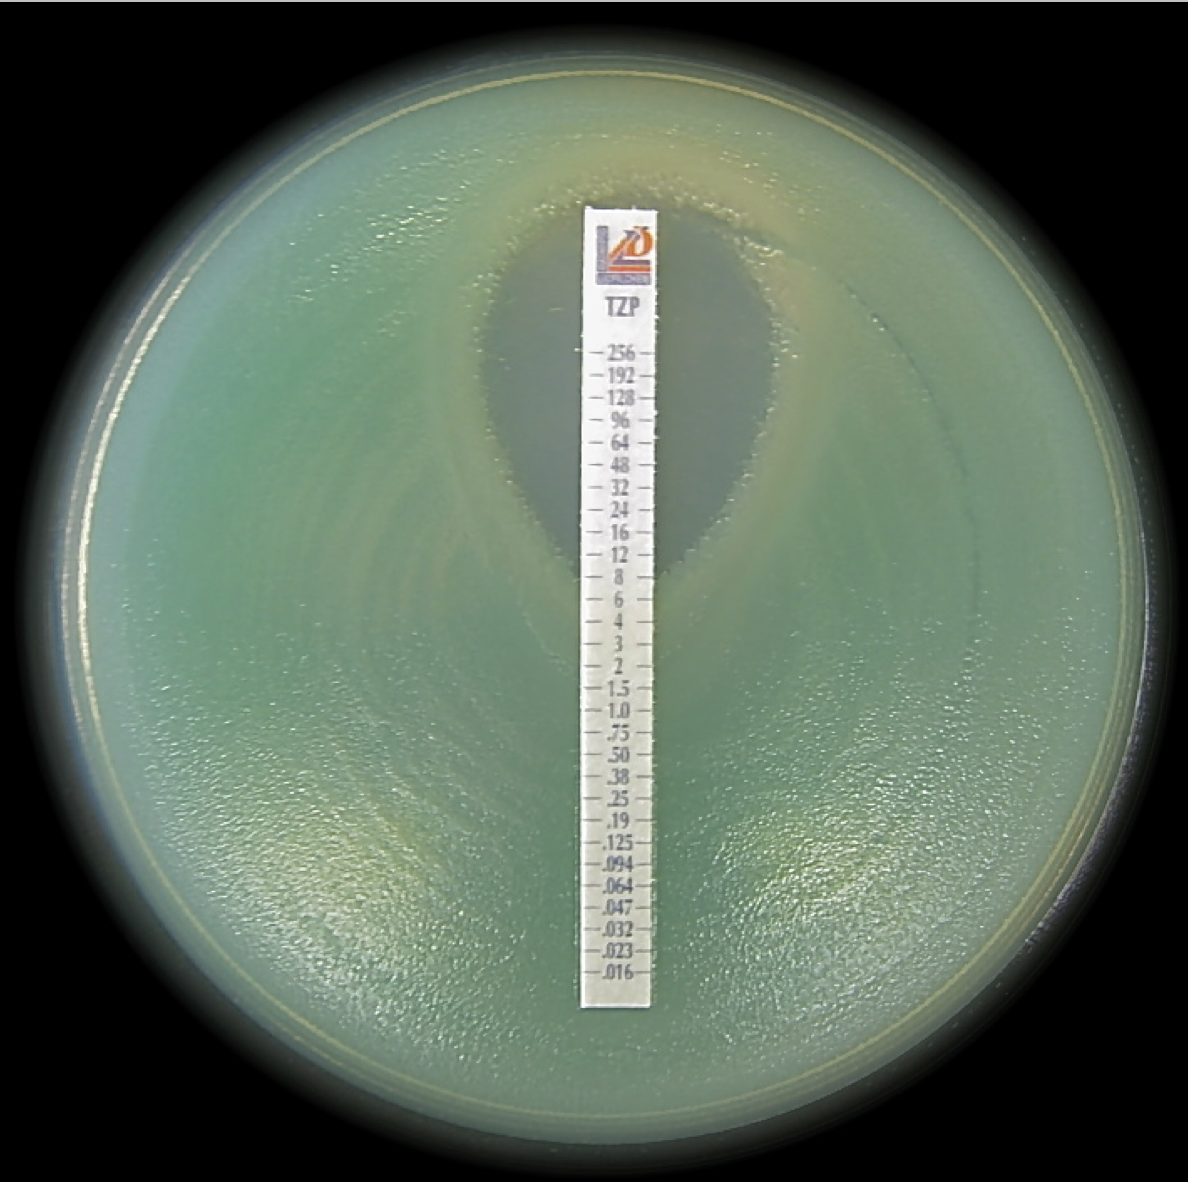line: (577, 206, 660, 1012)
zone: (478, 198, 777, 574)
